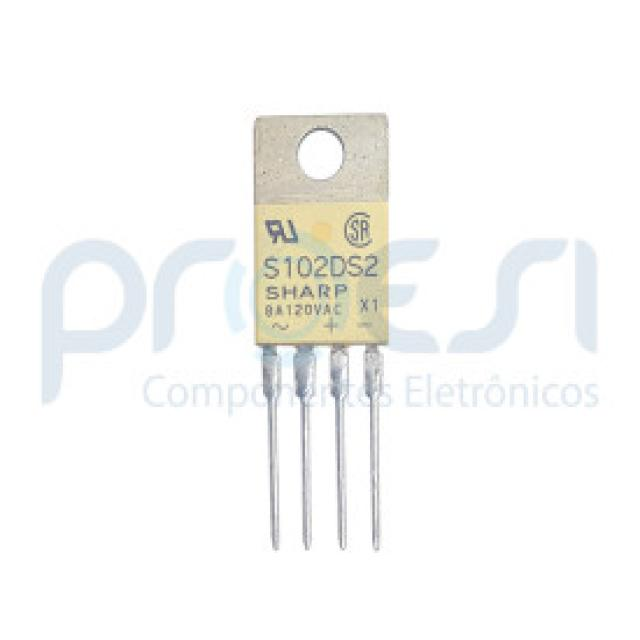Transistor: (252, 110, 391, 558)
